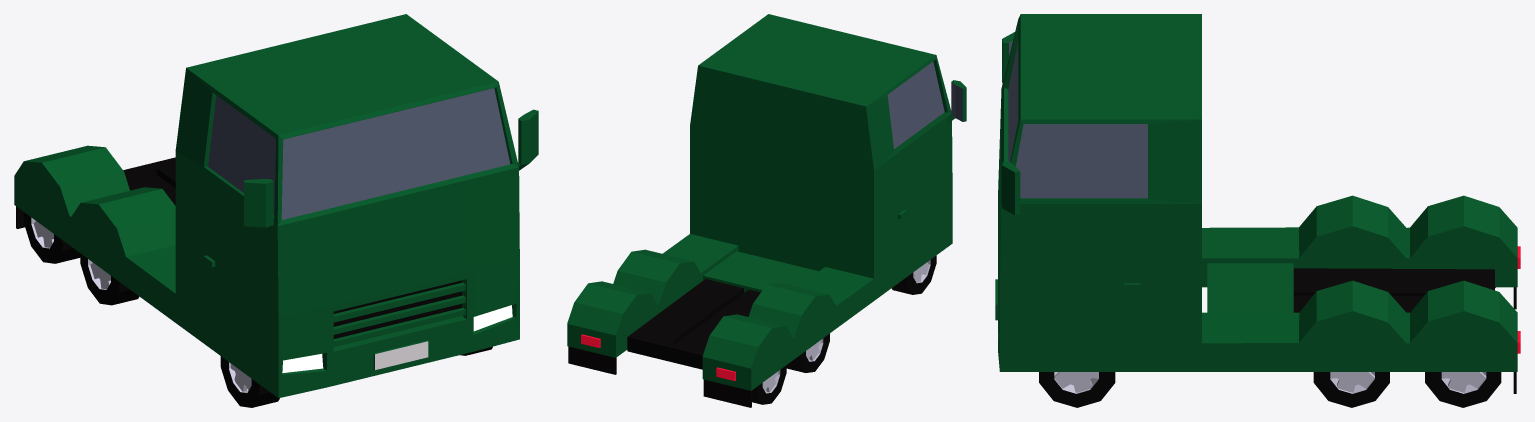
Rendered from truck.glb.
3 renders of one model, left to right at view 1: azimuth 30°, elevation 25°; view 2: azimuth 150°, elevation 25°; view 3: azimuth 270°, elevation 25°, orthographic. The views are drawn at different scales.
Visible parts, largest first — view 1: Truck, Truck wheel front right, Truck wheel rear right 2, Truck wheel rear right; view 2: Truck, Truck wheel front right, Truck wheel rear right, Truck wheel rear right 2; view 3: Truck, Truck wheel front left, Truck wheel rear left 2, Truck wheel rear left.
Boxes of the visible parts, x1=… form: Truck: x1=14, y1=14, x2=538, y2=398; Truck wheel front right: x1=220, y1=356, x2=279, y2=407; Truck wheel rear right 2: x1=23, y1=212, x2=80, y2=263; Truck wheel rear right: x1=80, y1=253, x2=139, y2=305; Truck: x1=567, y1=14, x2=966, y2=407; Truck wheel front right: x1=891, y1=255, x2=936, y2=294; Truck wheel rear right: x1=786, y1=333, x2=829, y2=372; Truck wheel rear right 2: x1=752, y1=365, x2=786, y2=404; Truck: x1=995, y1=14, x2=1520, y2=393; Truck wheel front left: x1=1039, y1=372, x2=1115, y2=407; Truck wheel rear left 2: x1=1425, y1=372, x2=1501, y2=407; Truck wheel rear left: x1=1313, y1=372, x2=1389, y2=407.
Size of the model in its own units: 3.41 by 3.21 by 5.38.
